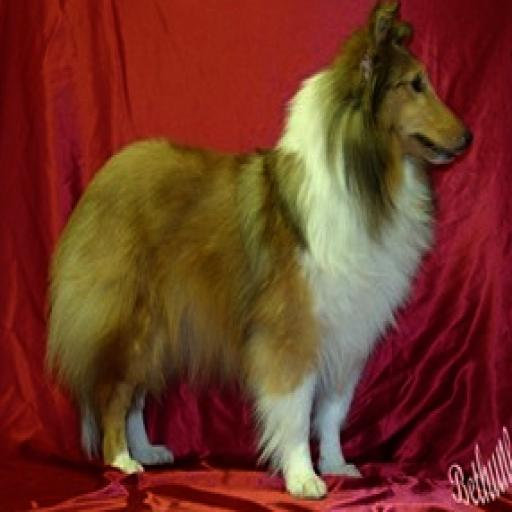dog_face: (337, 2, 472, 189)
